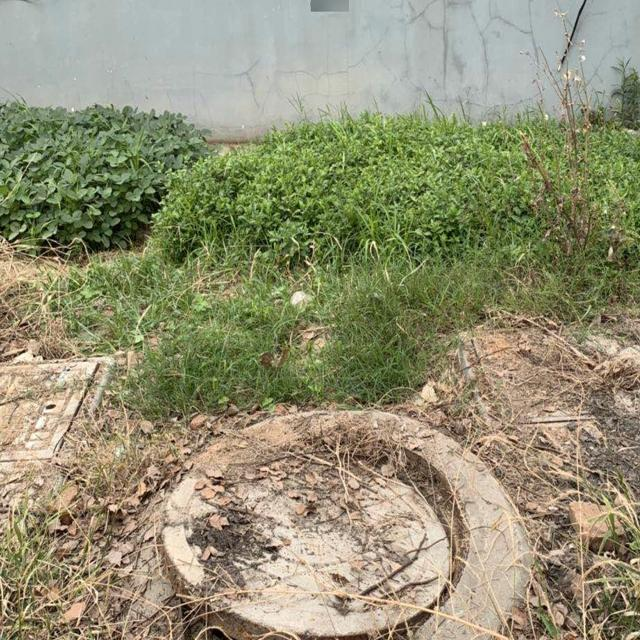uncovered: (161, 430, 469, 640)
